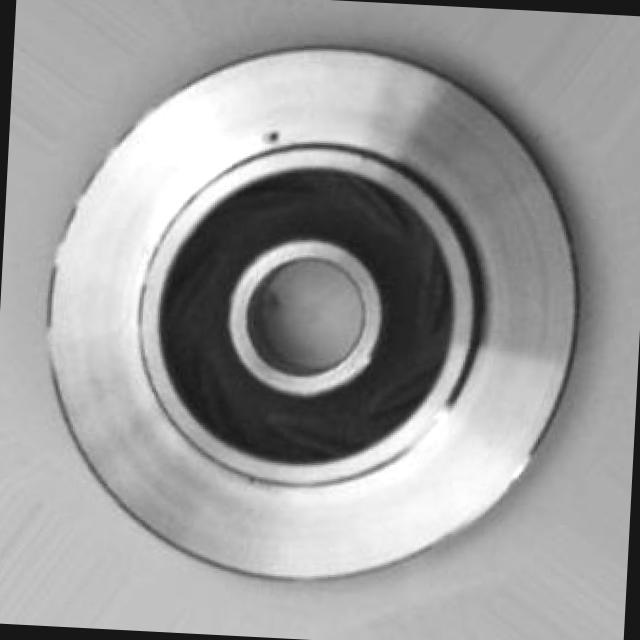Defect: (262, 128, 284, 147)
